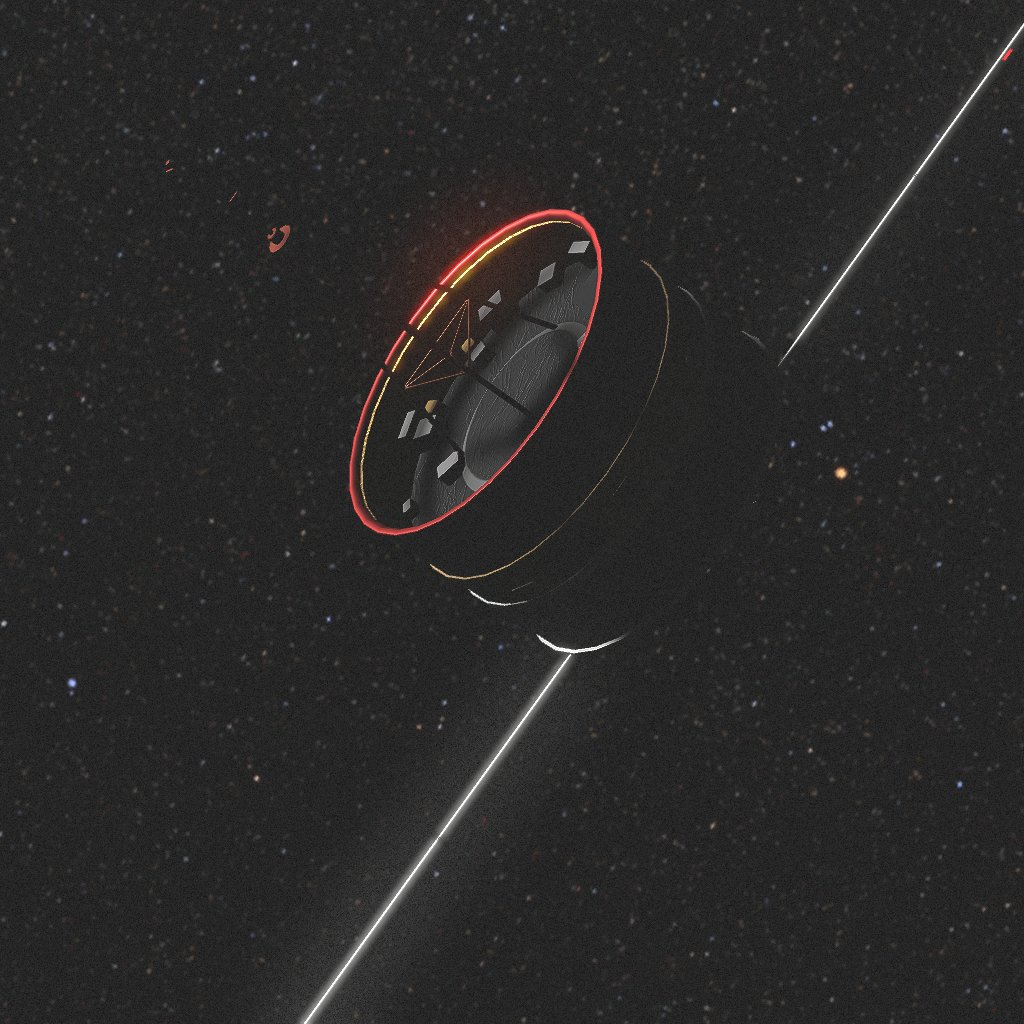double_star: (284, 52, 988, 1010)
